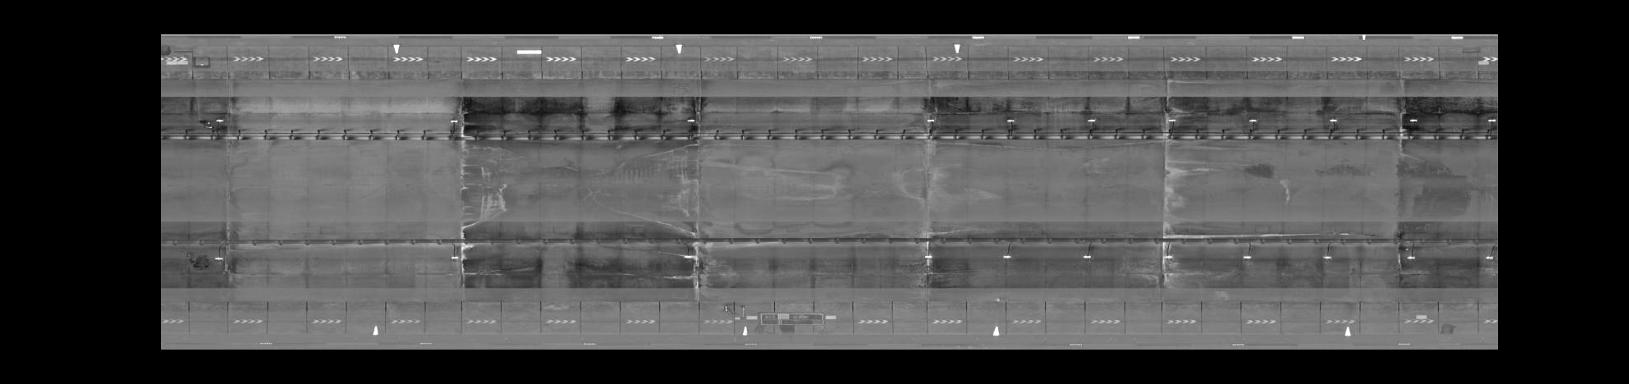light: (998, 251, 1015, 262), (919, 252, 939, 260), (676, 252, 696, 260), (444, 253, 463, 262), (1318, 252, 1334, 263), (1004, 114, 1019, 125), (1321, 115, 1340, 124), (1163, 116, 1180, 125), (1405, 116, 1420, 125), (447, 117, 462, 126), (1400, 254, 1418, 262), (1243, 116, 1260, 124), (683, 115, 696, 125), (1083, 116, 1099, 124), (1159, 253, 1176, 260), (1080, 252, 1095, 260), (922, 116, 938, 124), (212, 115, 226, 124), (211, 255, 225, 264), (1481, 252, 1494, 262), (1485, 115, 1497, 124), (1239, 254, 1255, 260)
